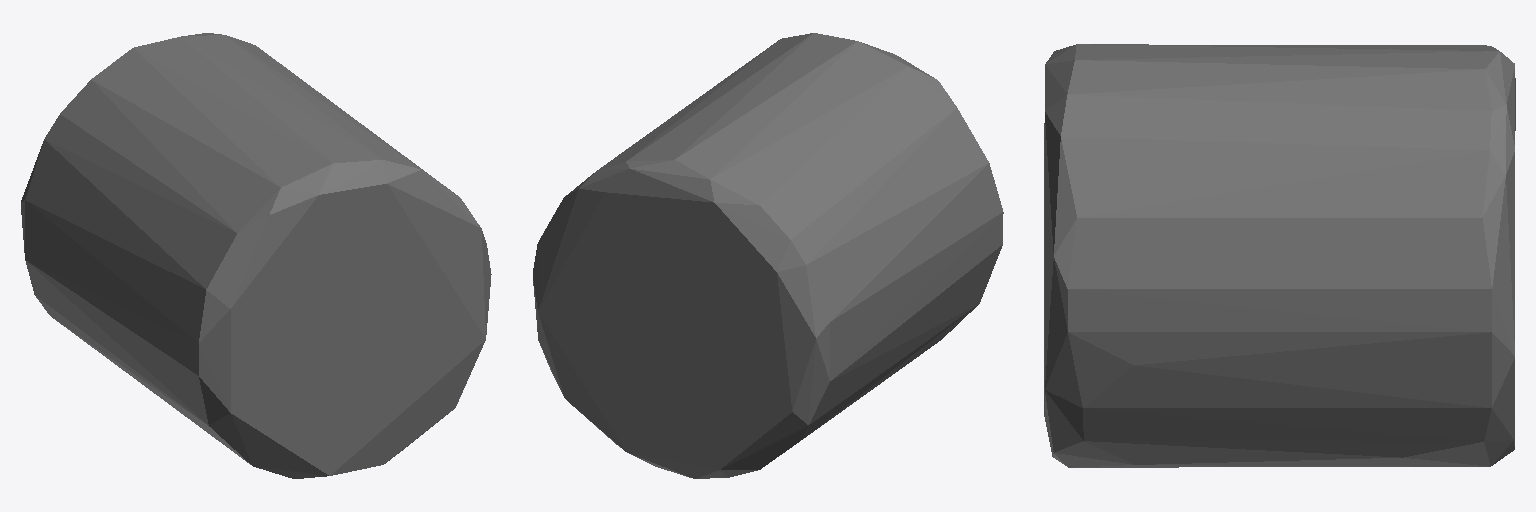
The robot description file, URDF, robot "toilet_paper_004":
<?xml version="1.0" ?>
<robot name="toilet_paper_004">
  <material name="color">
    <color rgba=".5 .5 .5 1"/>
  </material>

  <link name="base_link">
    <contact>
      <lateral_friction value="1.0"/>
      <rolling_friction value="0.001"/>
      <spinning_friction value="0.001"/>
      <inertia_scaling value="1.0"/>
    </contact>
    <inertial>
      <origin rpy="0 0 0" xyz="0.000561251 8.52174e-06 0.00341906"/>
       <mass value="0.1"/>
       <inertia ixx="1" ixy="0" ixz="0" iyy="1" iyz="0" izz="1"/>
    </inertial>

    <visual>
      <origin rpy="0 0 0" xyz="0 0 0"/>
      <geometry>
        <mesh filename="toilet_paper_004_vhacd_0_of_1.obj" scale="1 1 1"/>
      </geometry>
      <material name="color"/>
    </visual>

    <collision>
      <origin rpy="0 0 0" xyz="0 0 0"/>
      <geometry>
        <mesh filename="toilet_paper_004_vhacd_0_of_1.obj" scale="1 1 1"/>
      </geometry>
    </collision>

  </link>
</robot>

--- What the picture shows (computed from the rendered views, not written in the file) ---
The picture shows the robot from 3 angles, left to right: view 1: azimuth 30°, elevation 25°; view 2: azimuth 150°, elevation 25°; view 3: azimuth 270°, elevation 25°; orthographic projection.
Robot: toilet_paper_004 — 1 links, 0 joints (none); root link base_link; default pose: all joints at 0.
Links seen in each view (by area): view 1: base_link; view 2: base_link; view 3: base_link.
Boxes of the visible links, x1,y1,x2,y2 form: base_link: (21,33,491,478); base_link: (533,33,1003,478); base_link: (1044,44,1515,467).
Size in the robot's own frame: 0.133 by 0.15 by 0.1331 metres.
Meshes: 1 distinct files referenced, 1 mesh visuals loaded (1 OBJ).